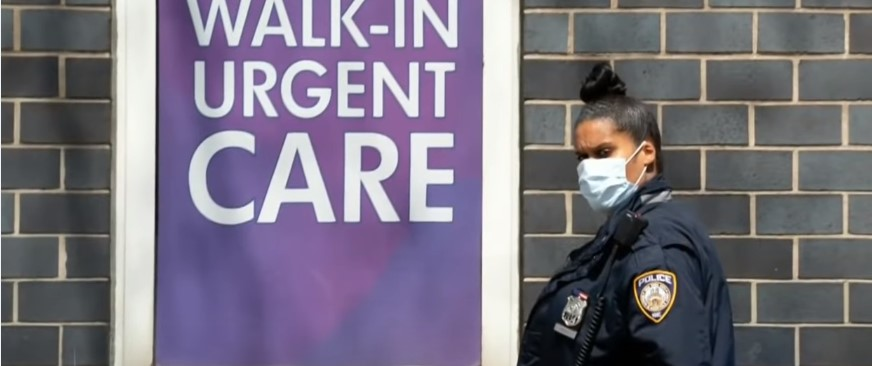face_with_mask: (572, 97, 658, 213)
